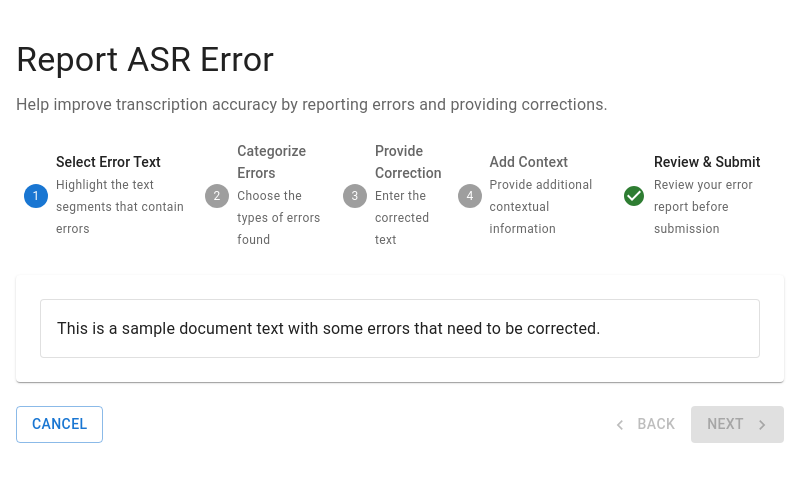
Test: ErrorReportingForm › Step Navigation › enables Next button when current step is valid
Press the mouse on the text with test id "selectable-text": (329, 328) x1=57 y1=319 x2=601 y2=338
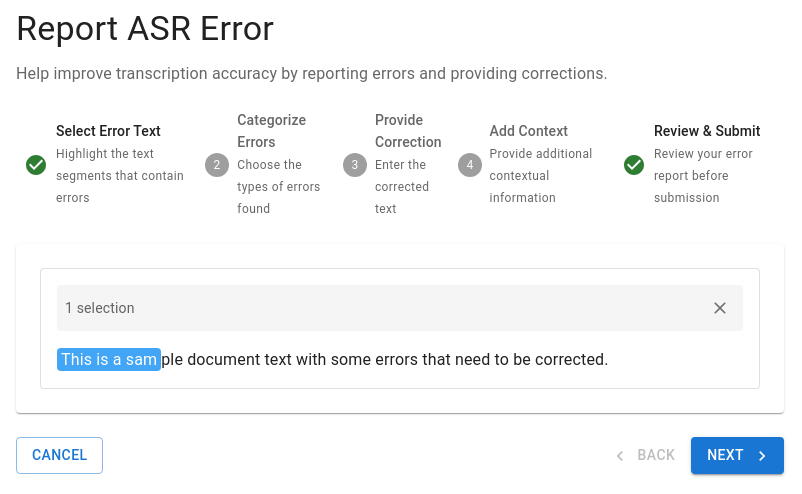
Expected: the button "Next" is enabled, x1=691 y1=437 x2=784 y2=474
